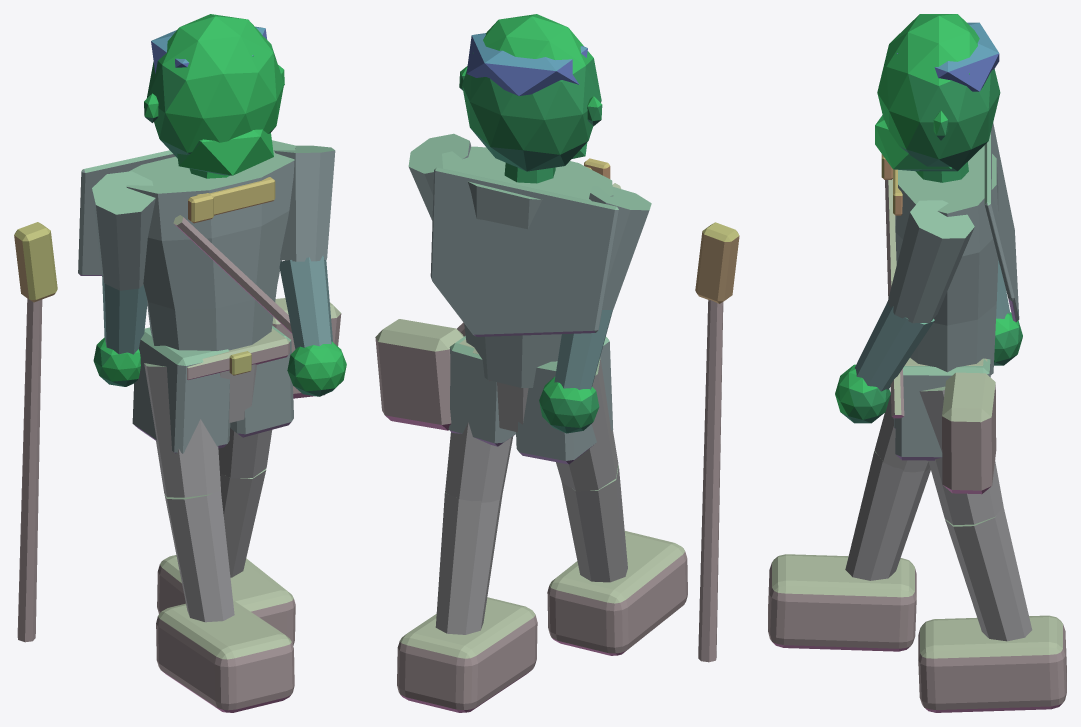
Rendered from npc_scout_up_r_v01.glb.
The picture shows the model from 3 angles, left to right: view 1: azimuth 30°, elevation 25°; view 2: azimuth 150°, elevation 25°; view 3: azimuth 270°, elevation 25°; orthographic projection.
Visible parts, largest first — view 1: GEO_npc_scout_up_r_v01; view 2: GEO_npc_scout_up_r_v01; view 3: GEO_npc_scout_up_r_v01.
Boxes of the visible parts, box(x1,y1,x2,y2) form: GEO_npc_scout_up_r_v01: box(14, 14, 346, 712); GEO_npc_scout_up_r_v01: box(375, 14, 739, 712); GEO_npc_scout_up_r_v01: box(768, 14, 1066, 712).
Size of the model in its own units: 1.1 by 2.06 by 0.8399.
